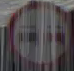No overtake: (10, 8, 65, 55)
